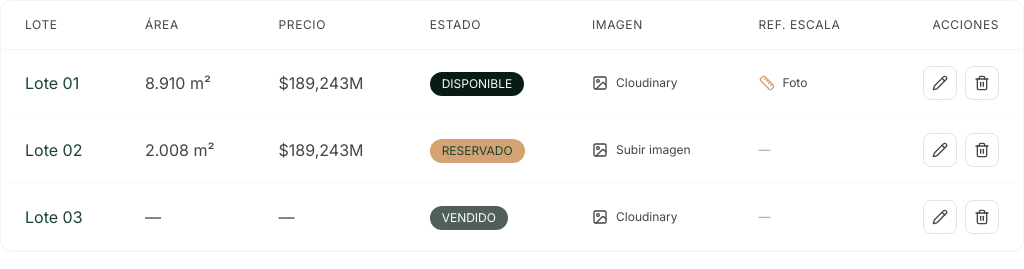
LotsTable › Delete with confirmation › cancels delete confirmation
Click the button named "Eliminar lote 01".
click(982, 83)  # box x1=965 y1=66 x2=999 y2=100
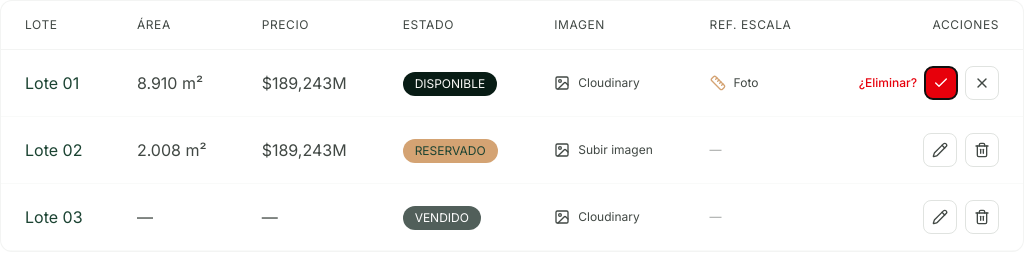
Click the button named "Cancelar eliminación".
click(982, 83)  # box x1=965 y1=66 x2=999 y2=100
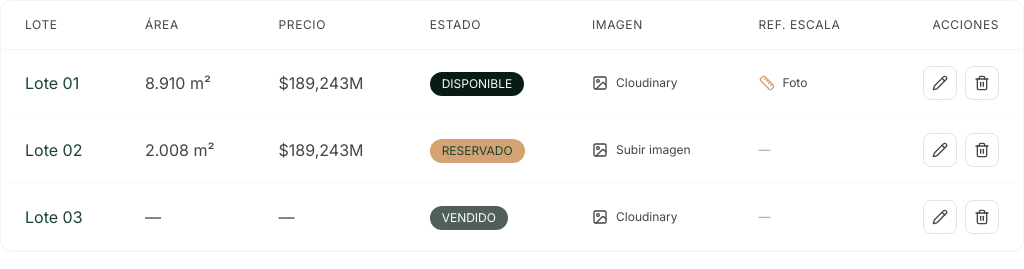
Now the text "¿Eliminar?" is gone
